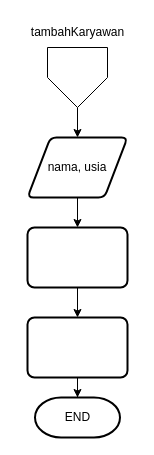
Some shapes in this 154 by 455 pixel diagram are drawn without their labels. Here are the shapes that lost their labels. From the top down, the centre of each, then its label:
At [77,257]: "append karyawan".
At [77,347]: "print karyawan".
